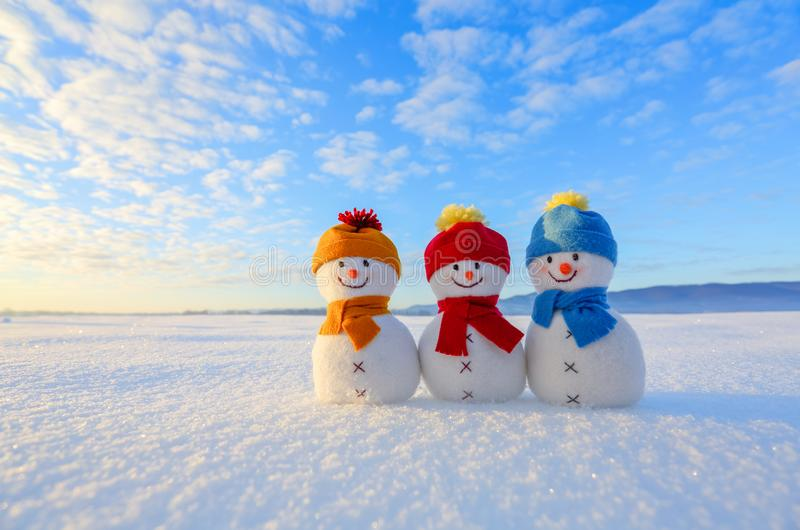person-like: (521, 188, 649, 413), (413, 202, 531, 406), (308, 206, 422, 407)
